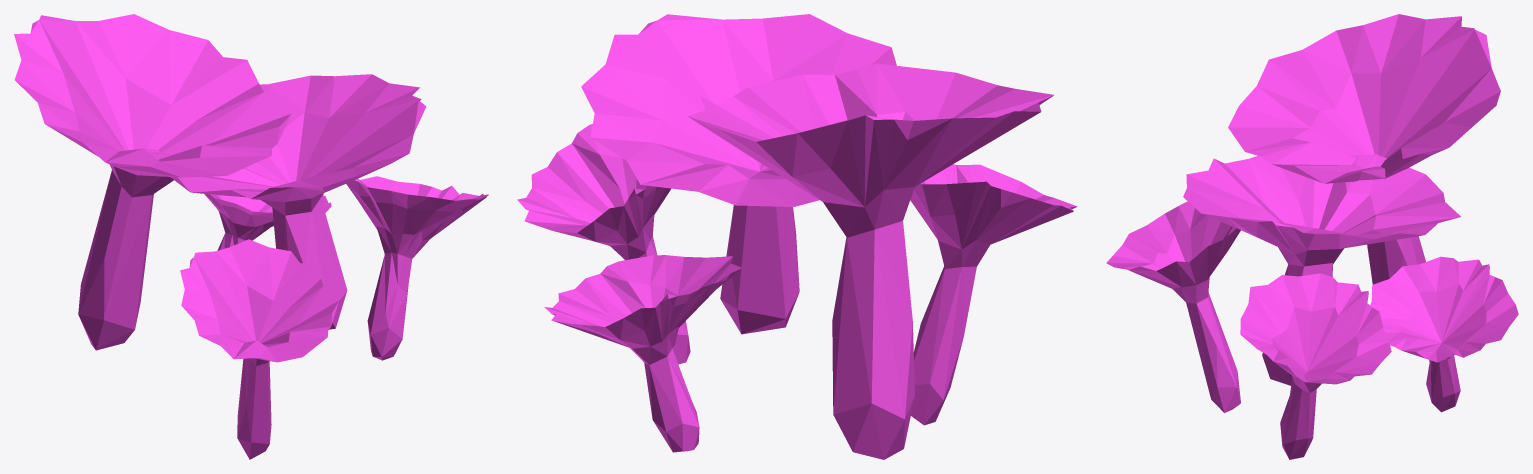
File: SM_Mushroom_Trumpet_Medium_Cluster_A_Fantasy.fbx
3 renders of one model, left to right at view 1: azimuth 30°, elevation 25°; view 2: azimuth 150°, elevation 25°; view 3: azimuth 270°, elevation 25°, orthographic. The views are drawn at different scales.
Visible parts, largest first — view 1: SM_Mushroom_Trumpet_Medium_Cluster_A_Fantasy; view 2: SM_Mushroom_Trumpet_Medium_Cluster_A_Fantasy; view 3: SM_Mushroom_Trumpet_Medium_Cluster_A_Fantasy.
Part boxes in pixels (box(x1,y1,x2,y2)): SM_Mushroom_Trumpet_Medium_Cluster_A_Fantasy: box(14, 14, 488, 459); SM_Mushroom_Trumpet_Medium_Cluster_A_Fantasy: box(517, 14, 1077, 459); SM_Mushroom_Trumpet_Medium_Cluster_A_Fantasy: box(1106, 14, 1518, 459).
Bounding box in the file's own units: 1.39 × 1.14 × 1.24.
